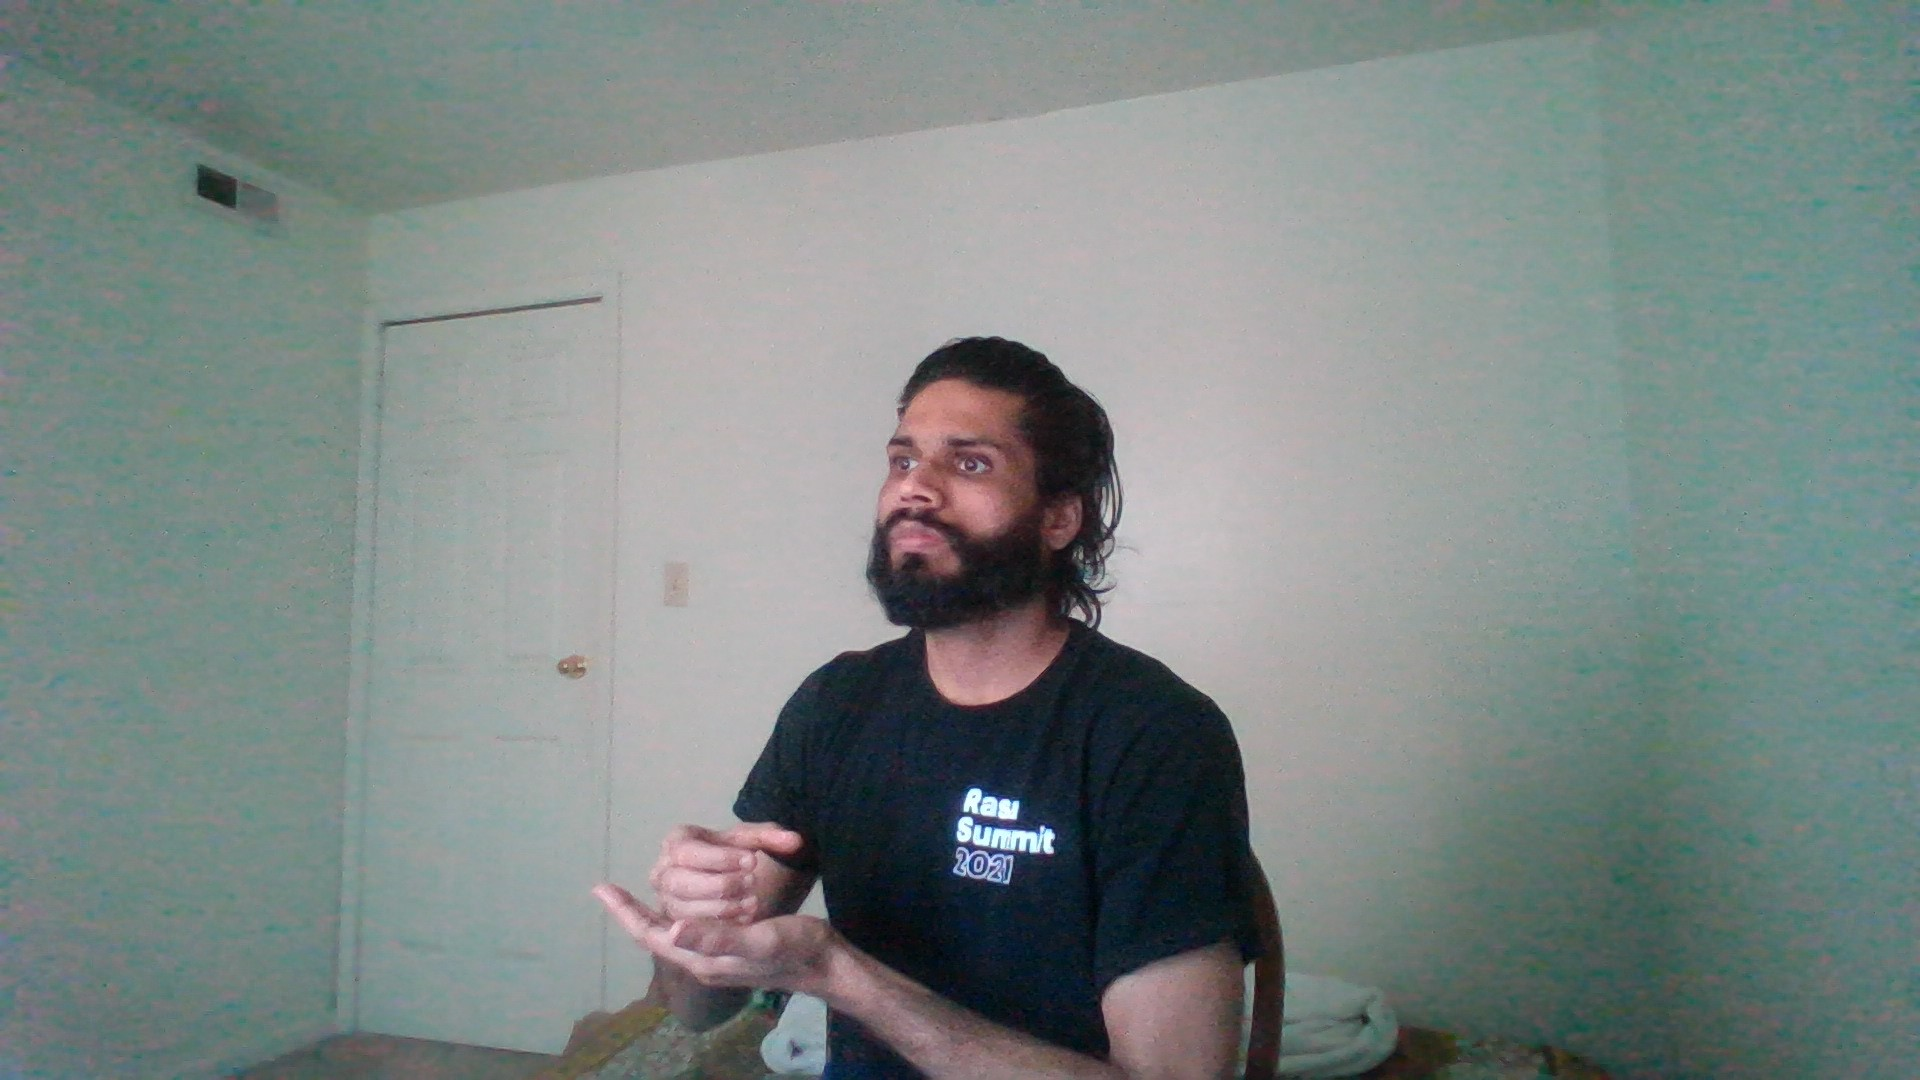Cup: (509, 793, 947, 1023)
